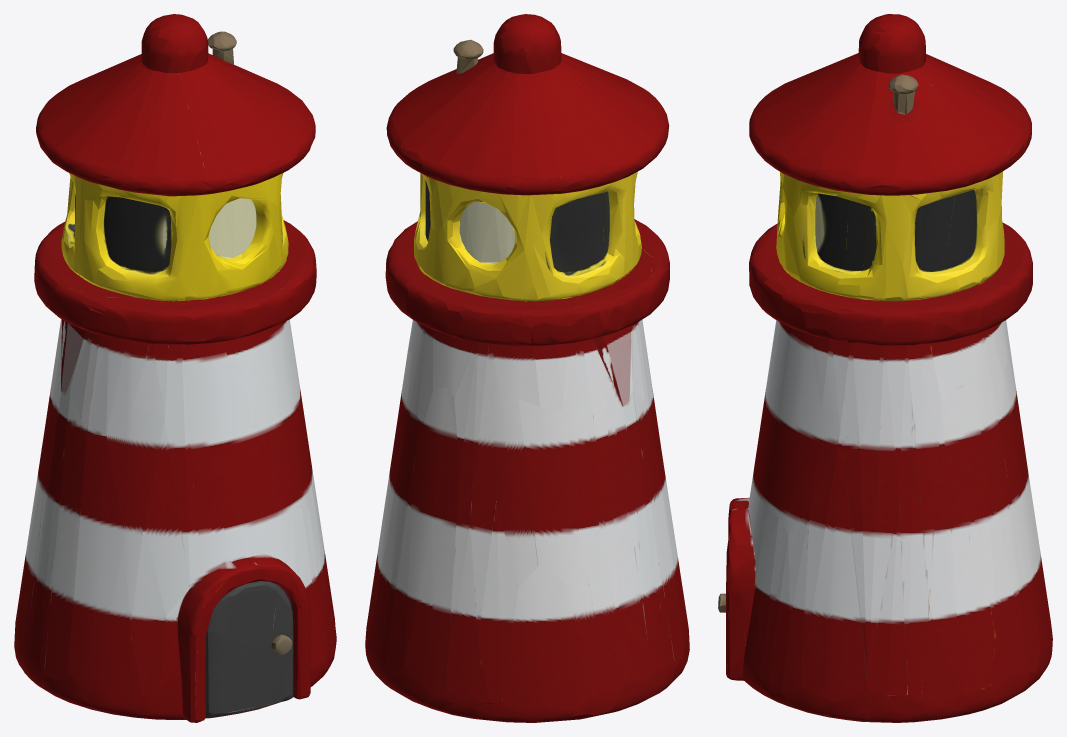
The picture shows the model from 3 angles, left to right: view 1: azimuth 30°, elevation 25°; view 2: azimuth 150°, elevation 25°; view 3: azimuth 270°, elevation 25°; orthographic projection.
Size of the model in its own units: 0.8741 by 1.9 by 0.9023.
Materials: 1 (1 with a texture image).
